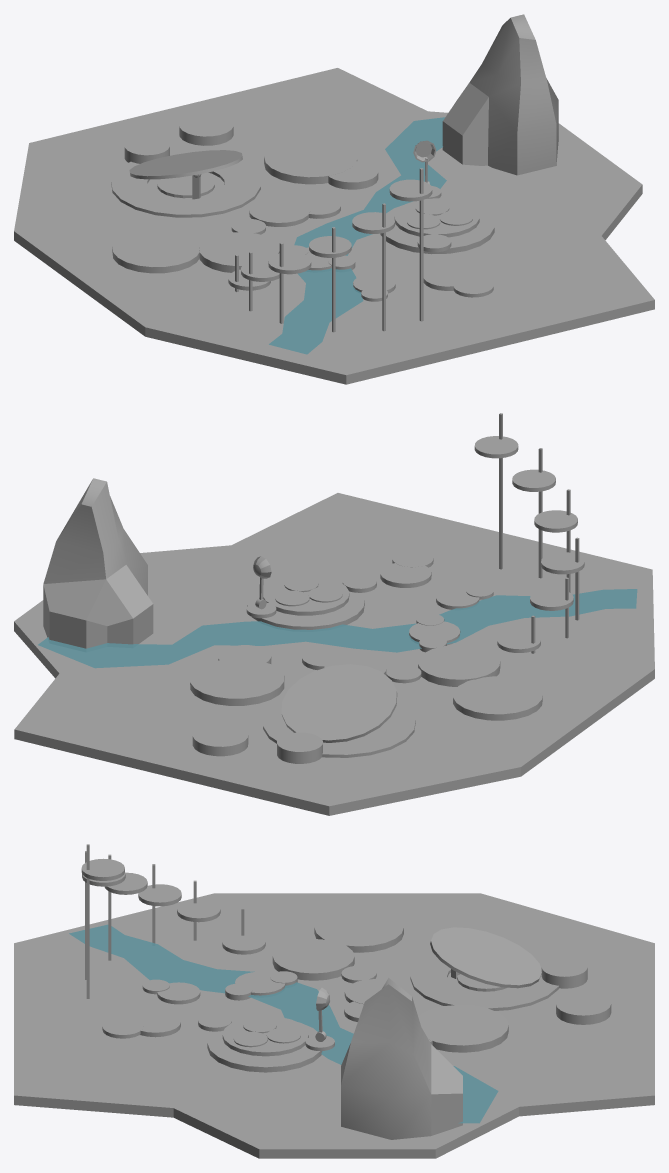
The model's file is mb_layer2_mod.fbx.
The picture shows the model from 3 angles, top to bottom: view 1: azimuth 30°, elevation 25°; view 2: azimuth 150°, elevation 25°; view 3: azimuth 270°, elevation 25°; orthographic projection.
Parts seen in each view (by area): view 1: pPlane1, mountain, river, pCylinder45, pCylinder39, Elevator_Temp, BranchNode_Temp, pCylinder46, pCylinder29, pCylinder43, wave, pCylinder37 (+12 smaller); view 2: pPlane1, mountain, river, pCylinder46, pCylinder39, Elevator_Temp, pCylinder45, BranchNode_Temp, pCylinder29, wave, pCylinder43, pCylinder42 (+13 smaller); view 3: pPlane1, mountain, river, pCylinder46, pCylinder45, pCylinder39, Elevator_Temp, BranchNode_Temp, pCylinder29, wave, pCylinder43, pCylinder42 (+13 smaller).
Boxes of the visible parts, x1,y1,x2,y2 form: pPlane1: (14,68,654,384); mountain: (442,14,558,175); river: (269,117,446,354); pCylinder45: (111,151,260,217); pCylinder39: (264,138,357,184); Elevator_Temp: (112,230,199,273); BranchNode_Temp: (199,232,279,272); pCylinder46: (129,150,242,179); pCylinder29: (380,205,494,254); pCylinder43: (179,113,233,145); wave: (394,198,479,237); pCylinder37: (249,197,310,226); pPlane1: (14,493,654,815); mountain: (43,478,153,648); river: (38,589,637,668); pCylinder46: (281,664,397,742); pCylinder39: (190,658,284,705); Elevator_Temp: (453,676,542,720); pCylinder45: (263,701,415,757); BranchNode_Temp: (418,645,500,686); pCylinder29: (247,581,364,629); wave: (263,575,349,615); pCylinder43: (192,723,248,756); pCylinder42: (277,732,322,763); pPlane1: (14,893,654,1158); mountain: (341,977,462,1139); river: (69,924,498,1123); pCylinder46: (430,927,541,988); pCylinder45: (410,949,558,1010); pCylinder39: (418,1005,508,1052); Elevator_Temp: (314,908,403,952); BranchNode_Temp: (272,939,354,980); pCylinder29: (207,1022,322,1072); wave: (222,1016,308,1056); pCylinder43: (556,992,611,1024); pCylinder42: (541,957,587,988).
Bounding box in the file's own units: 406 × 121 × 429.
